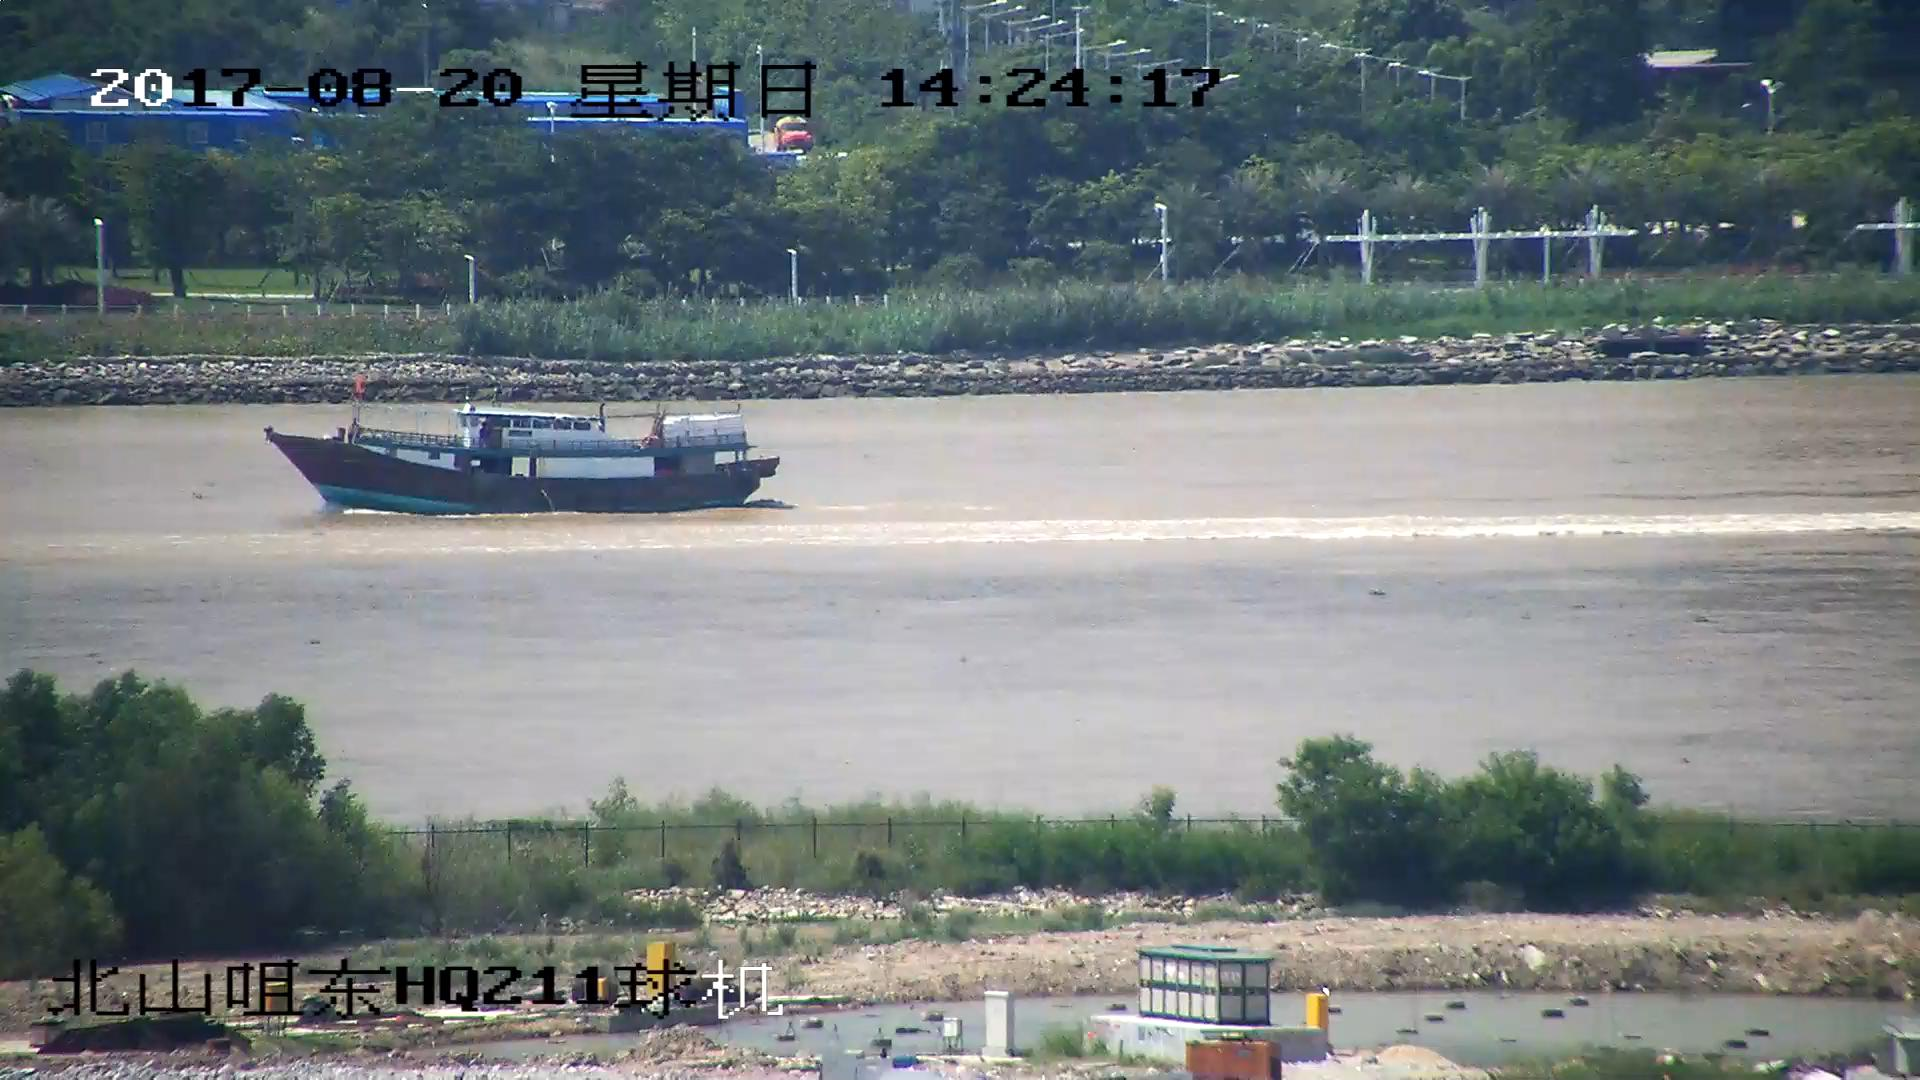fishing boat: (266, 391, 781, 514)
